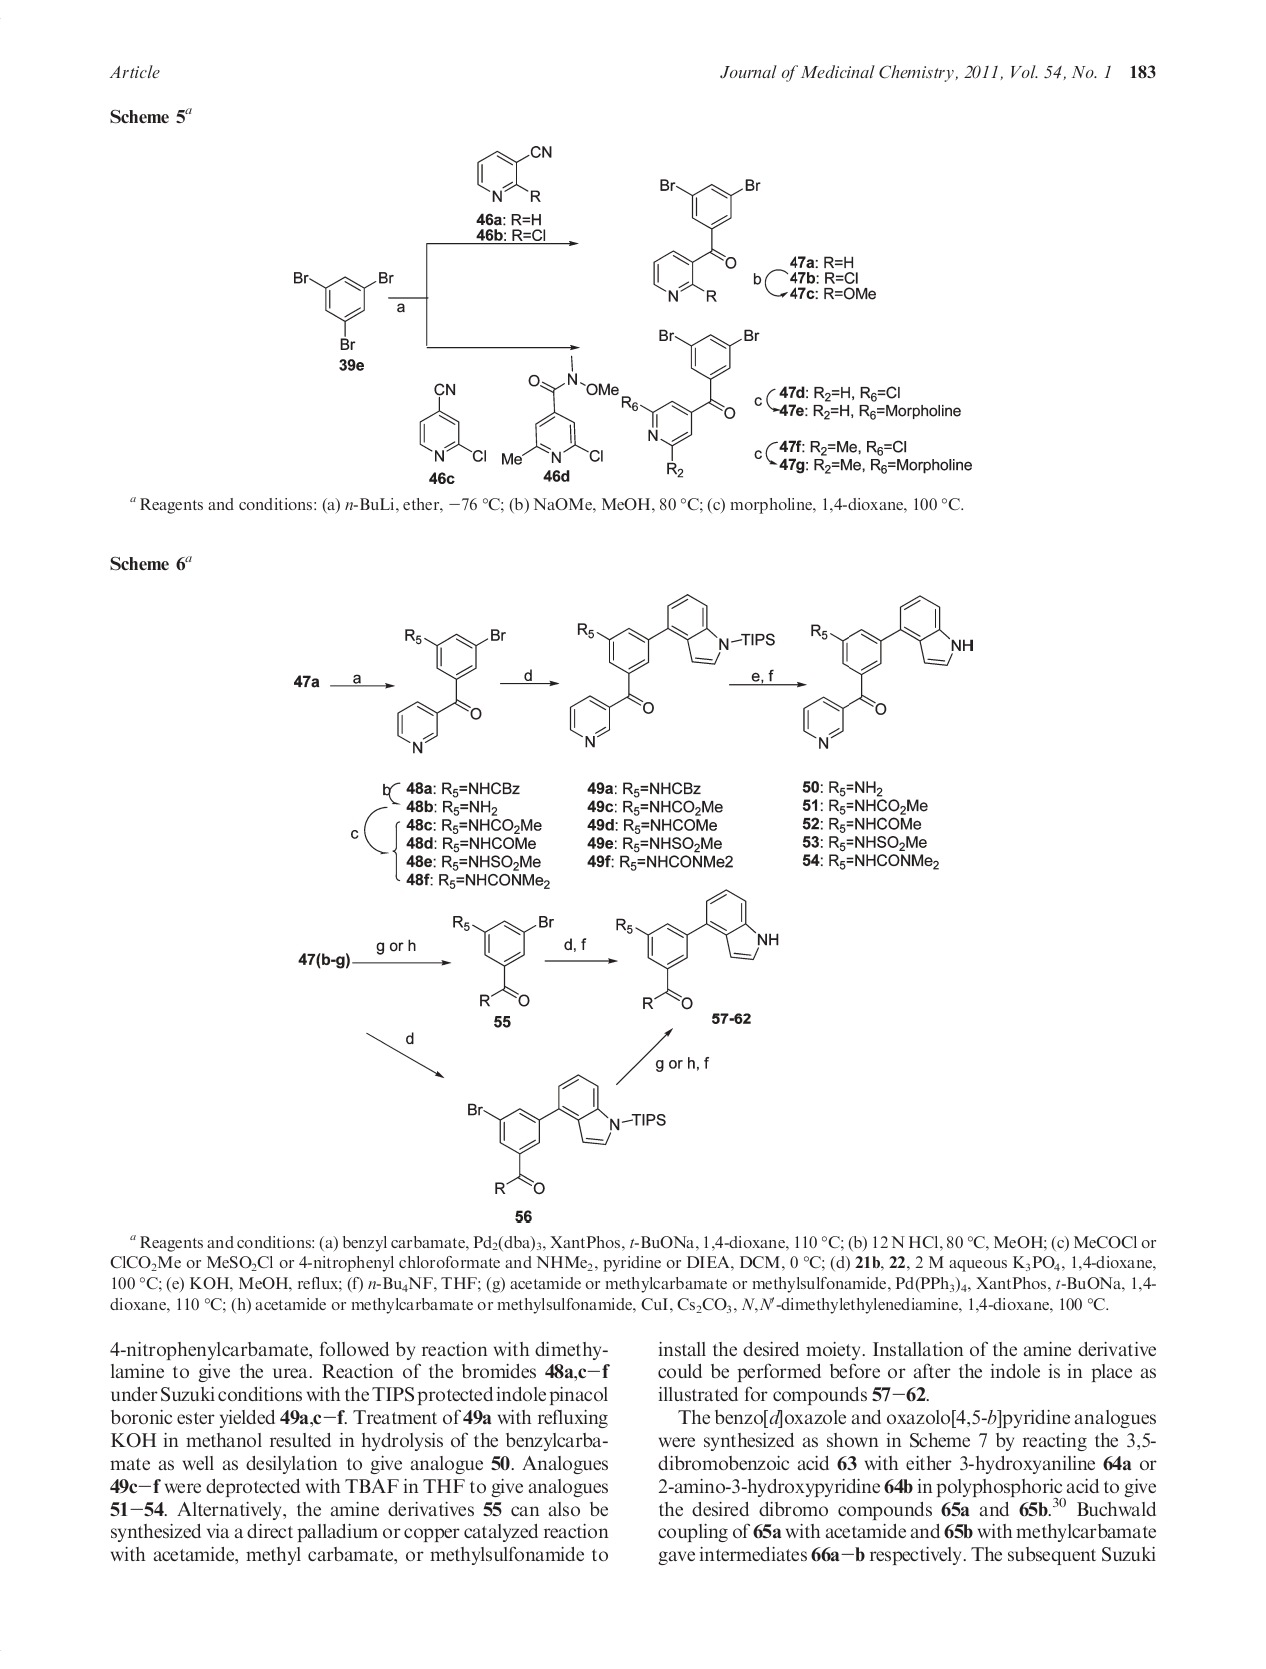exist_molecular: (568, 590, 775, 749), (799, 592, 976, 750), (465, 1072, 669, 1196), (620, 326, 761, 479), (614, 888, 781, 1009), (649, 173, 762, 305), (396, 626, 507, 754), (499, 354, 621, 468), (449, 912, 555, 1009), (289, 266, 394, 350), (414, 380, 489, 464), (475, 140, 556, 207)
